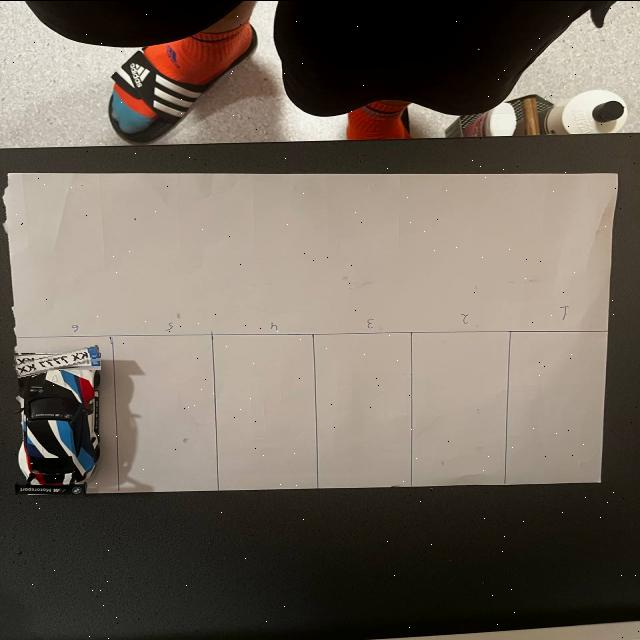KX 7777 KX: (15, 344, 101, 377)
